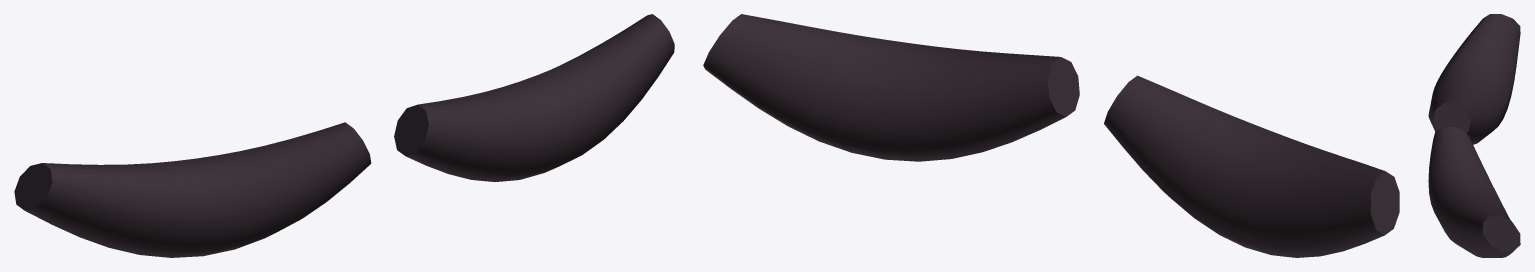
File: facial_thick_moustache_default.gltf
3 views of the same model, side by side, from view 1: azimuth 30°, elevation 25°; view 2: azimuth 150°, elevation 25°; view 3: azimuth 270°, elevation 25° (orthographic). The views are drawn at different scales.
Visible parts, largest first — view 1: Thick Moustache; view 2: Thick Moustache; view 3: Thick Moustache.
Boxes of the visible parts, x1,y1,x2,y2 form: Thick Moustache: (14,14,674,257); Thick Moustache: (703,14,1399,257); Thick Moustache: (1428,14,1520,257).
Size of the model in its own units: 0.2095 by 0.0331 by 0.0382.
Materials: 1 (1 with a texture image).
